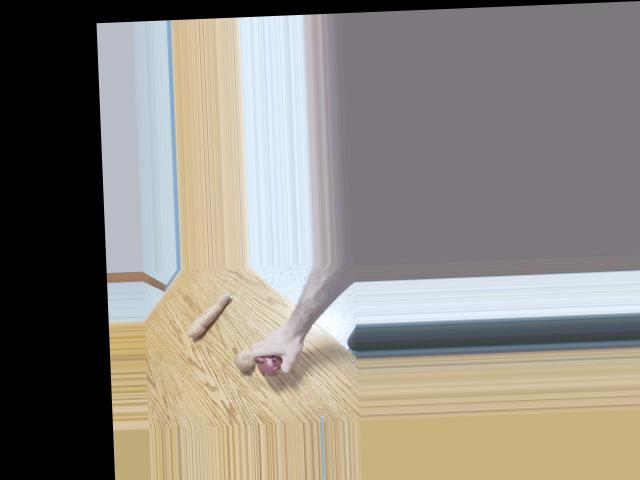onion: (233, 348, 257, 371)
